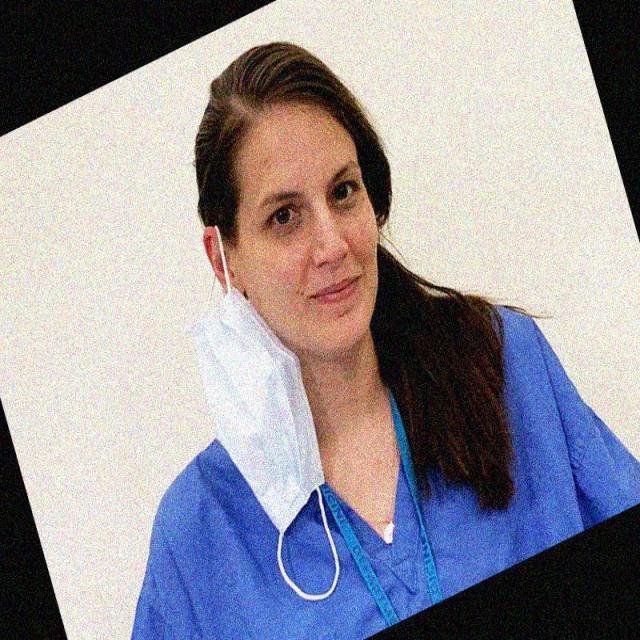hairnet: (210, 137, 386, 361)
